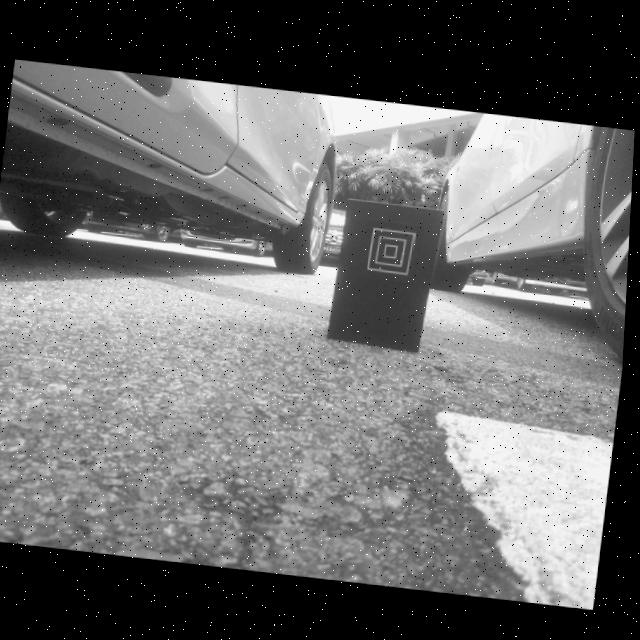BULLSEYE: (370, 224, 417, 271)
